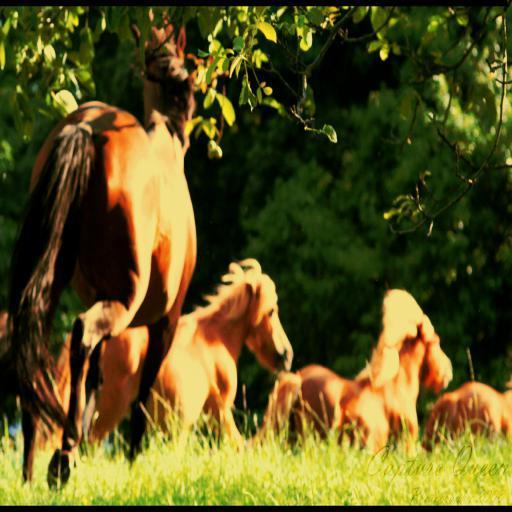horse: (2, 8, 198, 492), (54, 258, 294, 460), (260, 293, 452, 458), (428, 378, 512, 436)
